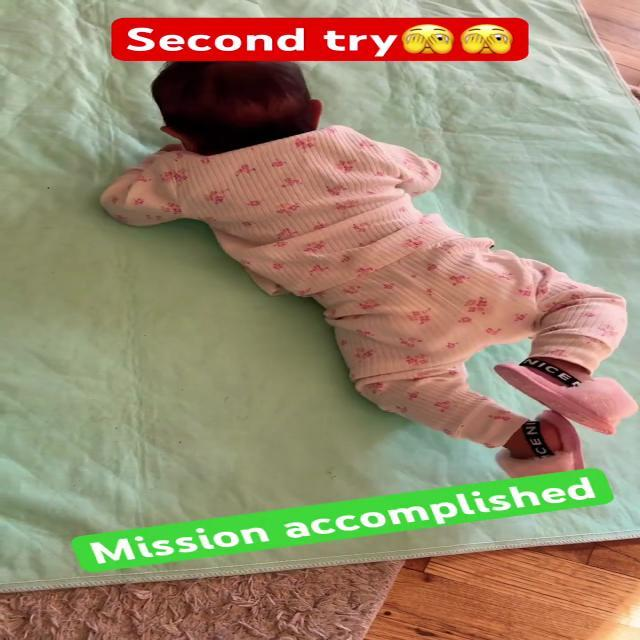baby: (96, 59, 640, 484)
